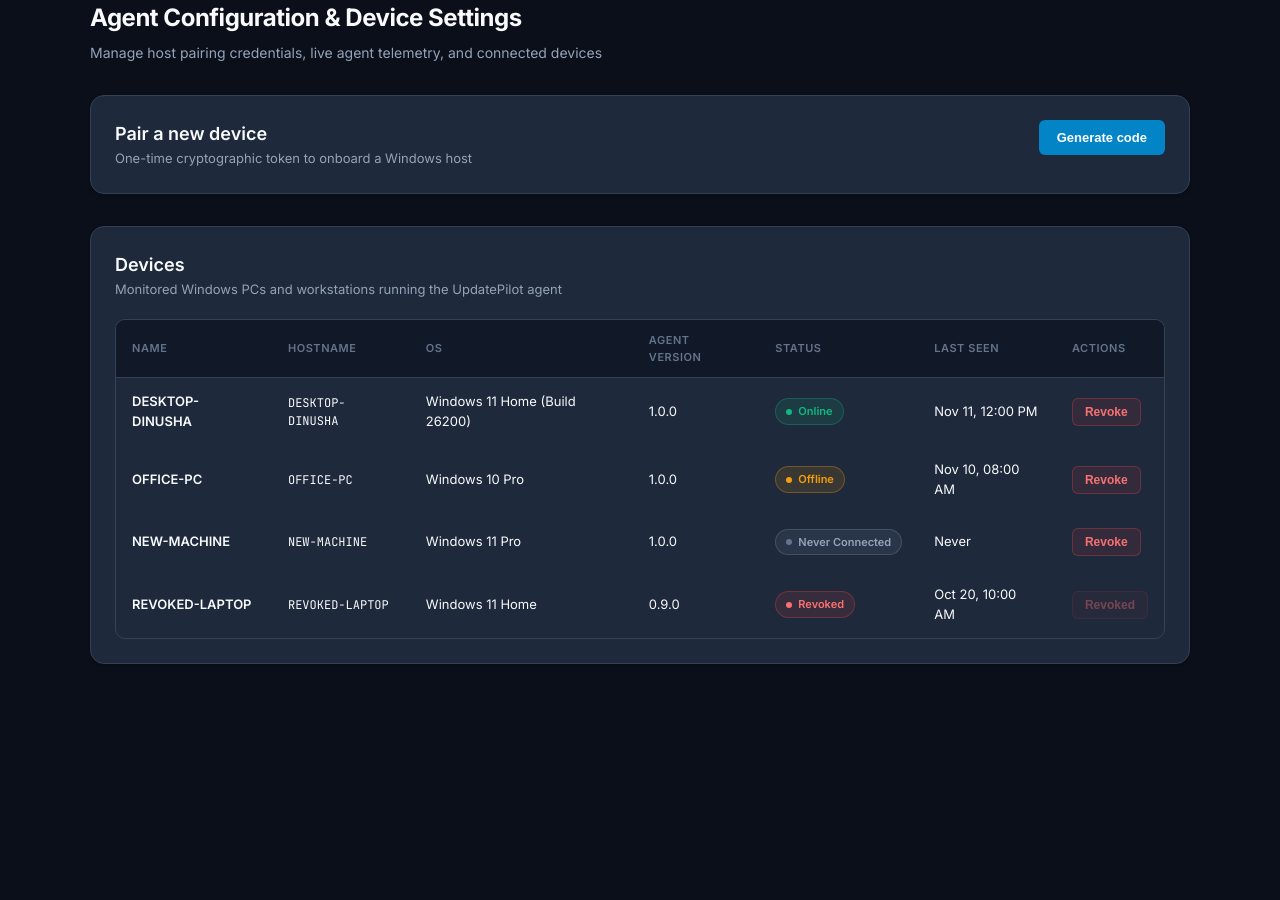
Test: Settings & Agent Configuration Screen › opens accessible confirmation dialog on Revoke click
This screenshot has width=1280, height=900.
Expected: the row with test id "device-row-dev-1" is shown, [116,378,1164,446]
What coordinates should you click on to do the following:
click the button with aria-label "revoke device desktop-dinusha"
I would click on:
 (1106, 412)
Its box is [1072,398,1141,426].
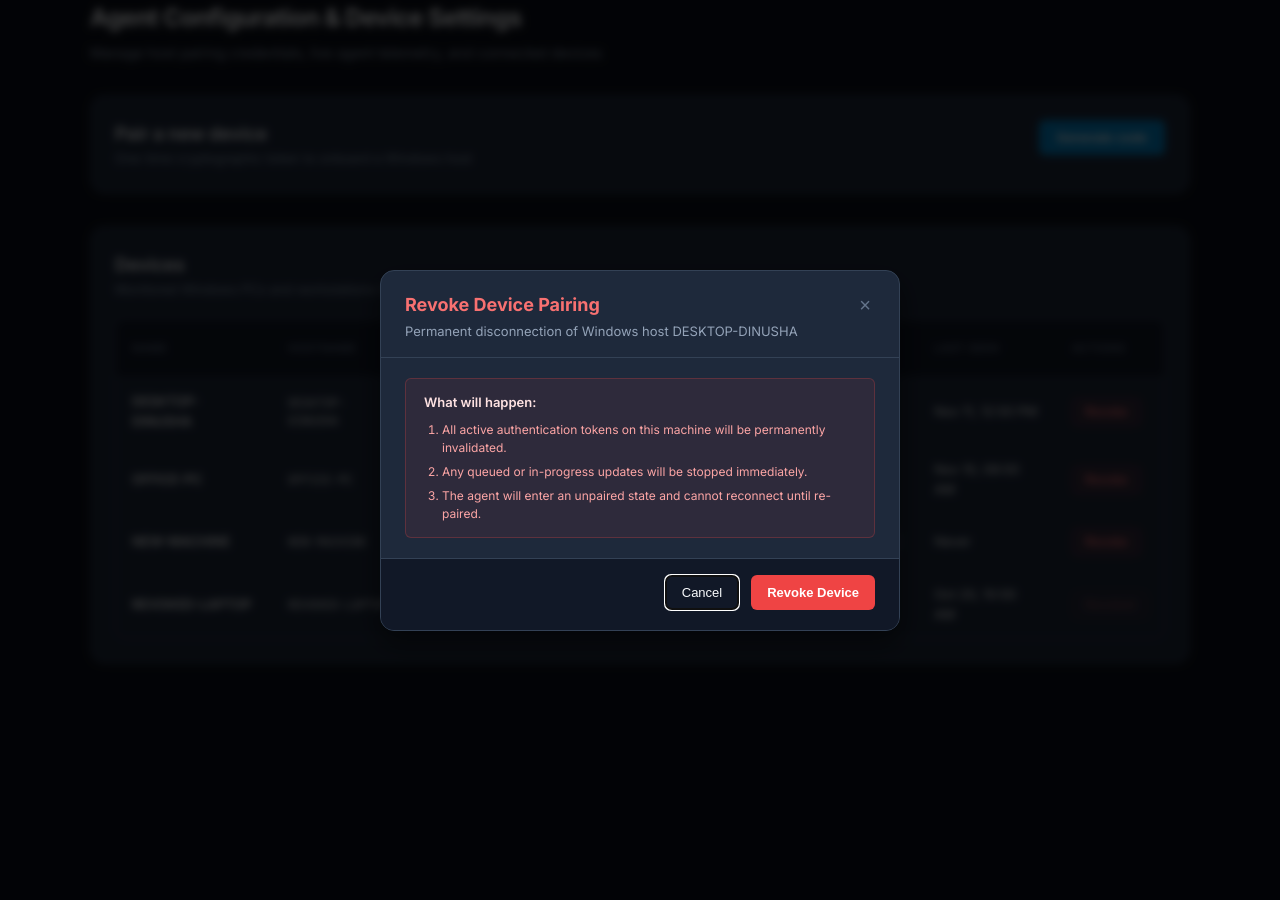
Expected: the dialog is shown, [380,270,900,630]
Expected: the heading "Revoke Device Pairing" is shown, [405,294,600,314]
Expected: the text "Permanent disconnection of Windows host DESKTOP-DINUSHA" is shown, [405,322,798,341]
